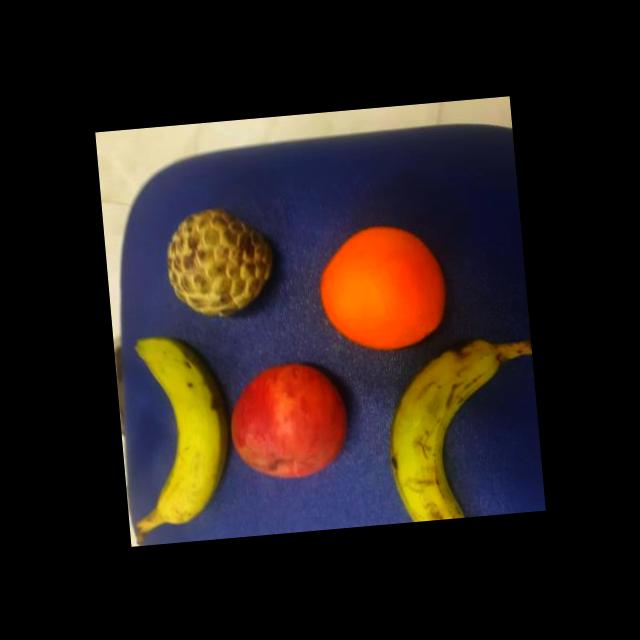Sakya fruit: (158, 198, 282, 322)
apple: (222, 354, 352, 486)
banana: (380, 334, 516, 522), (127, 328, 236, 534)
orange: (314, 215, 451, 358)
